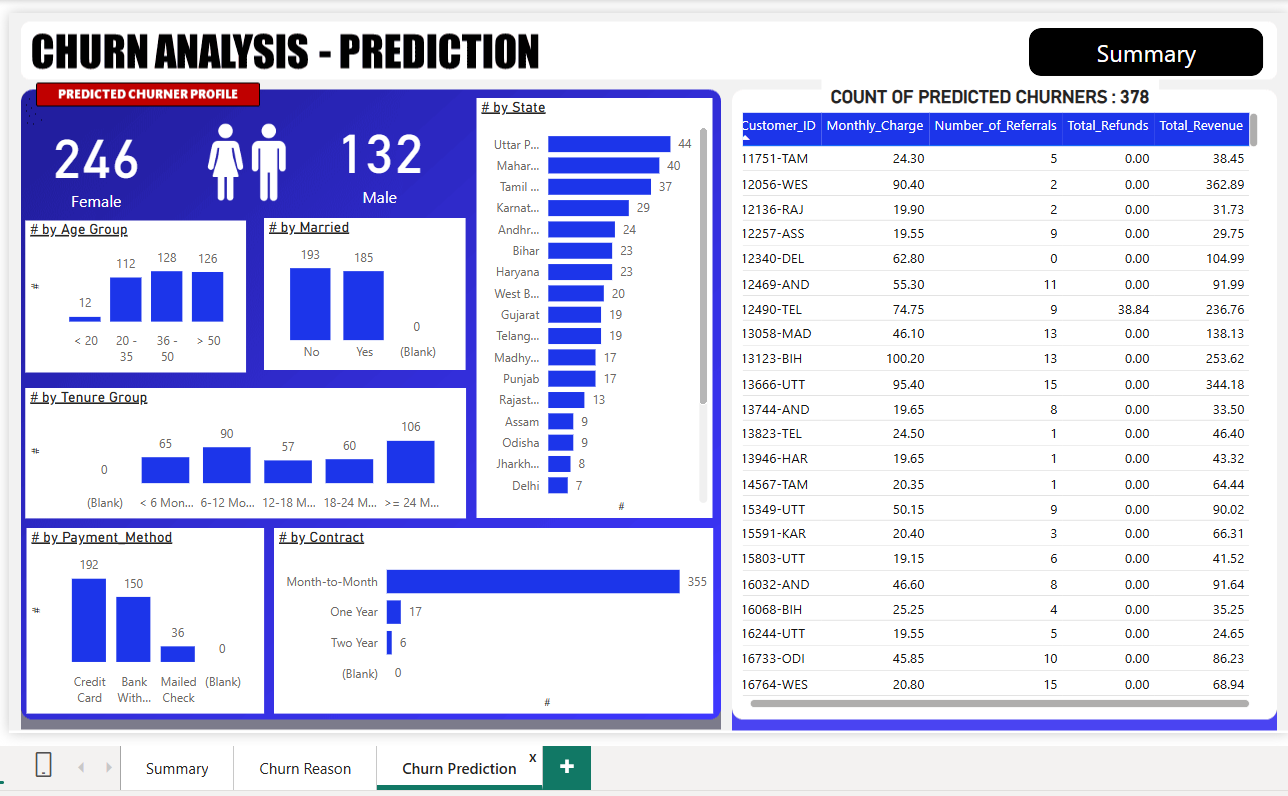

Layout of this report page (visuals, bound fields, positions):
{"tool":"powerbi","page":{"name":"Churn Prediction","canvas":[1280,720],"ordinal":2},"visuals":[{"type":"card","fields":{"Values":["tbl_measures.Title Predicted Churners"]},"box":[812.4,63.1,337.6,42.5],"z":1000},{"type":"card","fields":{"Values":["tbl_measures.Count Predicted Churner"]},"box":[17.8,94.7,140,109.8],"z":2000},{"type":"card","fields":{"Values":["tbl_measures.Count Predicted Churner"]},"box":[285.4,94.7,171.5,100.2],"z":4000},{"type":"clusteredColumnChart","fields":{"Category":["mapping_AgeGrp.Age Group"],"Y":["CountNonNull(Prediction_data.Customer_ID)"]},"box":[16.5,207.2,220.9,152.3],"z":5000},{"type":"clusteredColumnChart","fields":{"Category":["Prediction_data.Married"],"Y":["tbl_measures.Count Predicted Churner"]},"box":[255.2,204.5,201.7,152.3],"z":6000},{"type":"clusteredColumnChart","fields":{"Category":["mapping_TenureGrp.Tenure Group"],"Y":["tbl_measures.Count Predicted Churner"]},"box":[16.5,374.6,440.5,130.4],"z":7000},{"type":"clusteredBarChart","fields":{"Category":["Prediction_data.Contract"],"Y":["tbl_measures.Count Predicted Churner"]},"box":[264.8,514.6,439.1,185.2],"z":8000},{"type":"clusteredBarChart","fields":{"Category":["Prediction_data.State"],"Y":["tbl_measures.Count Predicted Churner"]},"box":[467.9,85.1,236,419.9],"z":9000},{"type":"clusteredColumnChart","fields":{"Category":["Prediction_data.Payment_Method"],"Y":["tbl_measures.Count Predicted Churner"]},"box":[17.8,514.6,237.4,185.2],"z":10000},{"type":"image","box":[182.5,94.7,109.8,107],"z":10001},{"type":"tableEx","fields":{"Values":["Prediction_data.Customer_ID","Prediction_data.Monthly_Charge","Prediction_data.Number_of_Referrals","Prediction_data.Total_Refunds","Prediction_data.Total_Revenue"]},"box":[727.3,94.7,526.9,605.1],"z":10002},{"type":"shape","box":[1019.6,15.1,234.6,48],"z":10003}]}

Visuals, with their boxes on the page's 1280x720 design canvas (x1, y1, x2, y2). These are canvas units, not pixel positions in the 1288x796 screenshot, which may show the page scaled, cropped or inside an application window:
card - tbl_measures.Title Predicted Churners: rect(812, 63, 1150, 106)
card - tbl_measures.Count Predicted Churner: rect(18, 95, 158, 204)
card - tbl_measures.Count Predicted Churner: rect(285, 95, 457, 195)
clusteredColumnChart - mapping_AgeGrp.Age Group x CountNonNull(Prediction_data.Customer_ID): rect(16, 207, 237, 360)
clusteredColumnChart - Prediction_data.Married x tbl_measures.Count Predicted Churner: rect(255, 204, 457, 357)
clusteredColumnChart - mapping_TenureGrp.Tenure Group x tbl_measures.Count Predicted Churner: rect(16, 375, 457, 505)
clusteredBarChart - Prediction_data.Contract x tbl_measures.Count Predicted Churner: rect(265, 515, 704, 700)
clusteredBarChart - Prediction_data.State x tbl_measures.Count Predicted Churner: rect(468, 85, 704, 505)
clusteredColumnChart - Prediction_data.Payment_Method x tbl_measures.Count Predicted Churner: rect(18, 515, 255, 700)
image: rect(182, 95, 292, 202)
tableEx - Prediction_data.Customer_ID x Prediction_data.Monthly_Charge: rect(727, 95, 1254, 700)
shape: rect(1020, 15, 1254, 63)
